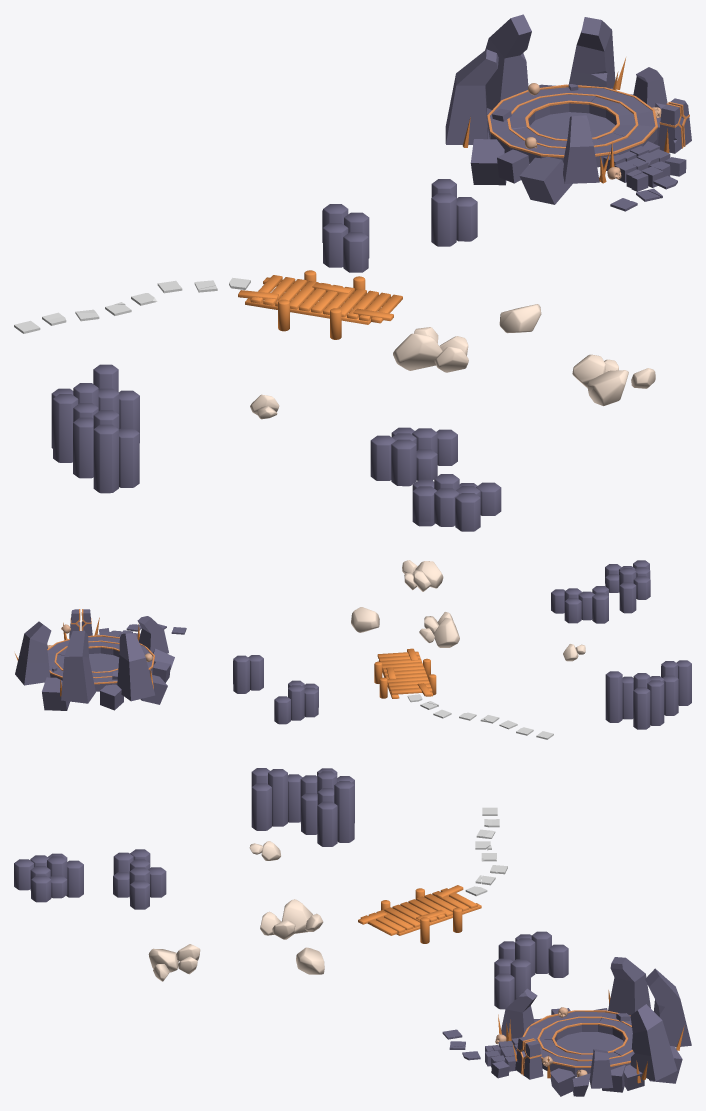
Rendered from sceneryStaticVisual.glb.
3 views of the same model, one above another, from view 1: azimuth 30°, elevation 25°; view 2: azimuth 150°, elevation 25°; view 3: azimuth 270°, elevation 25° (orthographic). The views are drawn at different scales.
Visible parts, largest first — view 1: Cylinder.022, Cube.172, Cylinder.021, Cube.139, Cube.173, Cylinder.024, Cube.147, Cube.122, Cube.185, Cube.129, Cube.124; view 2: Cylinder.022, Cube.172, Cube.139, Cube.173, Cylinder.021, Cube.147, Cylinder.024, Cube.124, Cube.122, Cube.129, Cube.185; view 3: Cylinder.022, Cube.172, Cylinder.021, Cube.139, Cube.173, Cylinder.024, Cube.147, Cube.185, Cube.122, Cube.124.
Boxes of the visible parts, x1,y1,x2,y2 form: Cylinder.022: (51, 179, 501, 531); Cube.172: (445, 14, 667, 183); Cylinder.021: (488, 87, 686, 191); Cube.139: (238, 270, 402, 339); Cube.173: (470, 84, 665, 204); Cylinder.024: (487, 84, 657, 157); Cube.147: (14, 280, 217, 333); Cube.122: (393, 333, 442, 370); Cube.185: (658, 98, 691, 153); Cube.129: (587, 370, 628, 406); Cube.124: (499, 304, 541, 333); Cylinder.022: (233, 560, 691, 729); Cube.172: (15, 616, 168, 703); Cube.139: (374, 648, 436, 698); Cube.173: (42, 648, 174, 710); Cylinder.021: (47, 628, 154, 691); Cube.147: (420, 701, 553, 739); Cylinder.024: (47, 635, 154, 684); Cube.124: (351, 607, 379, 632); Cube.122: (433, 617, 459, 647); Cube.129: (415, 561, 443, 588); Cube.185: (69, 609, 92, 638); Cylinder.022: (14, 768, 568, 1009); Cube.172: (501, 957, 691, 1088); Cylinder.021: (485, 1011, 634, 1078); Cube.139: (358, 885, 481, 943); Cube.173: (534, 1008, 682, 1096); Cylinder.024: (522, 1010, 632, 1067); Cube.147: (475, 807, 507, 885); Cube.185: (515, 1035, 543, 1079); Cube.122: (282, 899, 312, 933); Cube.124: (296, 947, 324, 974).
Bounding box in the file's own units: 51.63 × 8.2 × 48.62.
